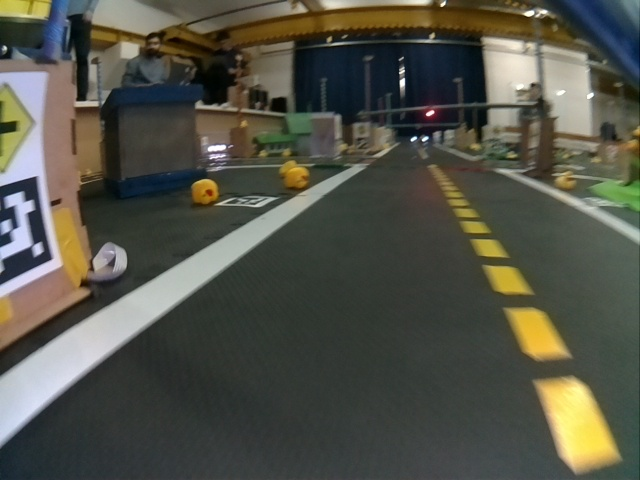Duckie: (284, 168, 310, 188), (193, 179, 214, 203), (556, 173, 577, 190)
QR code: (1, 174, 52, 286), (221, 194, 279, 208)
Traffic light: (425, 109, 436, 117)
